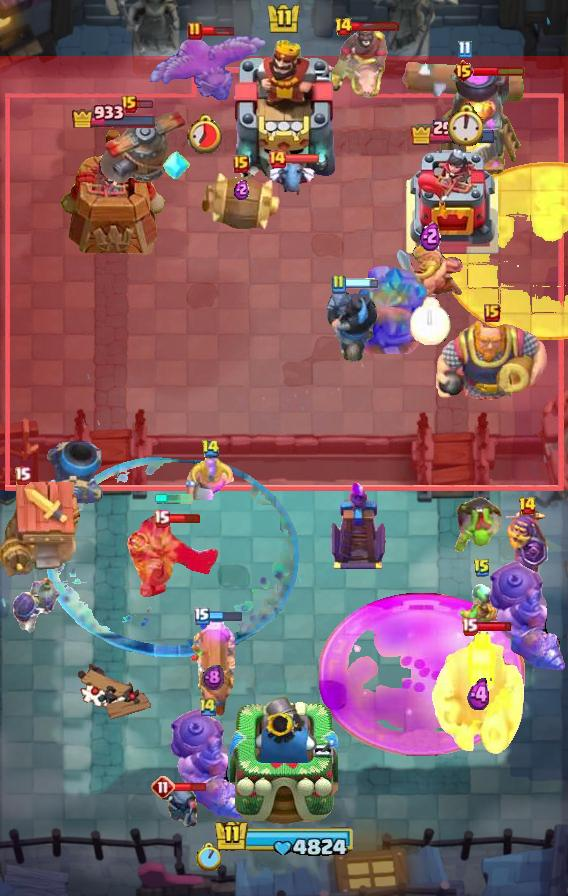bar-level: (454, 494, 504, 554)
battle-healer: (190, 621, 236, 725)
battle-ram: (158, 783, 202, 831)
cannoneer-tower: (346, 264, 436, 354)
clock: (210, 818, 358, 860)
dark-prince: (95, 102, 189, 184)
electro-spirit: (467, 678, 492, 712), (419, 221, 440, 252), (202, 664, 224, 691), (234, 180, 249, 201)
elixir: (409, 297, 450, 345), (186, 114, 225, 155), (445, 103, 482, 146), (195, 843, 220, 871)
emote: (474, 65, 527, 77), (350, 21, 400, 32), (208, 609, 243, 623), (172, 781, 208, 793), (201, 25, 235, 37), (167, 512, 201, 524), (475, 621, 512, 632), (284, 152, 320, 163), (343, 278, 379, 289), (134, 99, 154, 109)
firecracker-evolution: (506, 508, 548, 578)
freeze: (320, 23, 392, 101)
giant-skeleton: (431, 629, 527, 757), (434, 316, 550, 406)
giant-snowball: (457, 583, 507, 627)
goblin-ball: (9, 572, 63, 634)
goblin-giant: (395, 242, 465, 300), (185, 456, 234, 499)
hunter: (434, 67, 522, 177)
ice-spirit: (154, 494, 194, 504)
ice-spirit-evolution-symbol: (328, 479, 388, 571)
inferno-dragon: (324, 285, 380, 365)
inferno-tower: (126, 515, 222, 599)
king-tower: (228, 35, 340, 181), (230, 692, 338, 826)
knight-evolution: (319, 592, 525, 756)
minion: (402, 61, 526, 101)
mother-witch: (140, 34, 270, 108)
musketeer: (43, 440, 103, 504)
pad_0: (47, 455, 301, 657)
pad_2: (162, 148, 190, 182)
phoenix-egg: (438, 162, 568, 342)
queen-tower: (59, 128, 169, 256), (403, 146, 503, 256)
royal-delivery: (269, 161, 317, 197)
selected: (409, 117, 497, 145), (70, 100, 157, 127)
sparky: (0, 481, 86, 579)
text: (151, 775, 175, 799), (452, 59, 475, 83), (198, 695, 218, 716), (267, 149, 287, 169), (335, 17, 354, 37), (518, 496, 537, 516), (473, 558, 491, 578), (200, 439, 219, 457), (462, 617, 479, 636), (187, 21, 203, 41), (330, 274, 346, 294), (13, 467, 30, 485), (153, 509, 170, 527), (121, 95, 137, 113), (233, 155, 249, 173), (484, 304, 500, 322), (194, 607, 210, 625), (456, 41, 471, 60)
the-log: (199, 170, 283, 232)
wizard: (486, 559, 568, 673), (167, 707, 249, 821)
